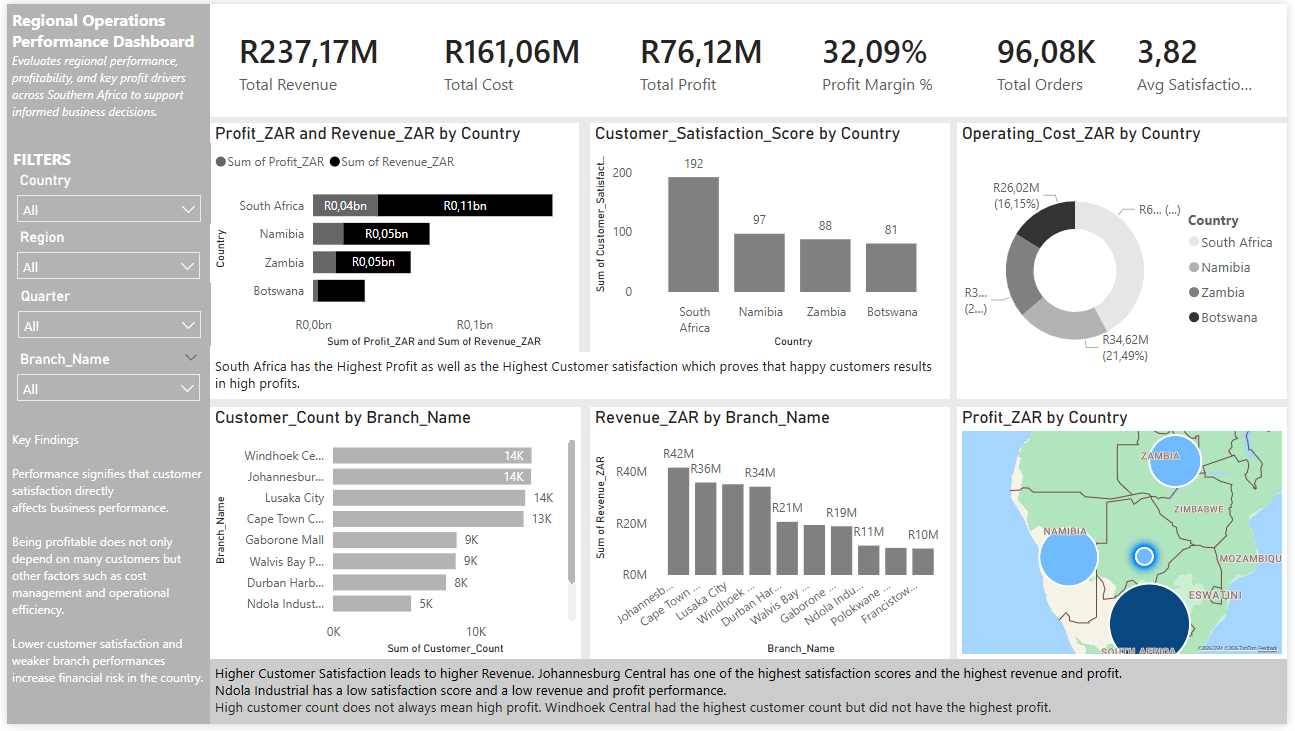

This screenshot's page, from the dashboard's own definition file:
{"tool":"powerbi","page":{"name":"Page 1","canvas":[1280,720],"ordinal":0},"visuals":[{"type":"textbox","box":[0,0,203.3,719.8],"z":0},{"type":"cardVisual","fields":{"Data":["Table1.Total Cost"]},"box":[407.9,0,196,112.6],"z":1000},{"type":"cardVisual","fields":{"Data":["Table1.Total Orders"]},"box":[960.9,0,159.4,112.8],"z":2000},{"type":"cardVisual","fields":{"Data":["Table1.Total Profit"]},"box":[603.6,0,182.7,112.8],"z":3000},{"type":"cardVisual","fields":{"Data":["Table1.Total Revenue"]},"box":[203.3,0,205.1,112.8],"z":4000},{"type":"cardVisual","fields":{"Data":["Table1.Profit Margin %"]},"box":[786.3,0,202.4,112.8],"z":5000},{"type":"cardVisual","fields":{"Data":["original Copy.Avg Satisfaction Score"]},"box":[1101.5,0,178.2,112.8],"z":6000},{"type":"barChart","title":" Profit_ZAR and Revenue_ZAR by Country","fields":{"Y":["Sum(Table1.Profit_ZAR)","Sum(Table1.Revenue_ZAR)"],"Category":["Table1.Country"]},"box":[203.1,118.8,368.9,229.7],"z":7000},{"type":"slicer","fields":{"Values":["Table1.Region"]},"box":[0,219.9,202.7,59.5],"z":8000},{"type":"columnChart","title":" Customer_Satisfaction_Score by Country","fields":{"Y":["Sum(Table1.Customer_Satisfaction_Score)"],"Category":["Table1.Country"]},"box":[582.6,118.8,360.9,229.7],"z":9000},{"type":"textbox","box":[203.1,348.5,740.4,47],"z":10000},{"type":"slicer","fields":{"Values":["Table1.Quarter"]},"box":[0.9,279.5,202.7,62.1],"z":11000},{"type":"slicer","fields":{"Values":["Table1.Branch_Name"]},"box":[0,341.6,202.7,62.1],"z":12000},{"type":"barChart","title":"Customer_Count by Branch_Name","fields":{"Category":["Table1.Branch_Name"],"Y":["Sum(Table1.Customer_Count)"]},"box":[203.1,403.4,370.6,251.8],"z":13000},{"type":"textbox","box":[203.1,655.3,1076.5,64.7],"z":14000},{"type":"columnChart","title":"Revenue_ZAR by Branch_Name","fields":{"Category":["Table1.Branch_Name"],"Y":["Sum(Table1.Revenue_ZAR)"]},"box":[582.6,402.6,360.9,252.7],"z":15000},{"type":"donutChart","title":" Operating_Cost_ZAR by Country","fields":{"Y":["Sum(Table1.Operating_Cost_ZAR)"],"Category":["Table1.Country"]},"box":[949.7,118.8,329.9,276.7],"z":16000},{"type":"textbox","box":[0,403.7,202.7,316.5],"z":17000},{"type":"textbox","box":[0.9,138.9,202.7,31.9],"z":19000},{"type":"slicer","fields":{"Values":["Table1.Country"]},"box":[0,163,203.6,56.9],"z":20000},{"type":"azureMap","title":"Profit_ZAR by Country","fields":{"Category":["Table1.Country"],"Size":["Sum(Table1.Profit_ZAR)"]},"box":[950,403,330,252],"z":20001}]}

Visuals, with their boxes in screenshot pixels (x1, y1, x2, y2), scaled from the page's 1280x720 canvas onto the 1295x731 screenshot:
textbox: x1=0, y1=0, x2=206, y2=730
cardVisual - Table1.Total Cost: x1=413, y1=0, x2=611, y2=114
cardVisual - Table1.Total Orders: x1=972, y1=0, x2=1133, y2=115
cardVisual - Table1.Total Profit: x1=611, y1=0, x2=796, y2=115
cardVisual - Table1.Total Revenue: x1=206, y1=0, x2=413, y2=115
cardVisual - Table1.Profit Margin %: x1=796, y1=0, x2=1000, y2=115
cardVisual - original Copy.Avg Satisfaction Score: x1=1114, y1=0, x2=1294, y2=115
" Profit_ZAR and Revenue_ZAR by Country" barChart: x1=205, y1=121, x2=579, y2=354
slicer - Table1.Region: x1=0, y1=223, x2=205, y2=284
" Customer_Satisfaction_Score by Country" columnChart: x1=589, y1=121, x2=955, y2=354
textbox: x1=205, y1=354, x2=955, y2=402
slicer - Table1.Quarter: x1=1, y1=284, x2=206, y2=347
slicer - Table1.Branch_Name: x1=0, y1=347, x2=205, y2=410
"Customer_Count by Branch_Name" barChart: x1=205, y1=410, x2=580, y2=665
textbox: x1=205, y1=665, x2=1294, y2=730
"Revenue_ZAR by Branch_Name" columnChart: x1=589, y1=409, x2=955, y2=665
" Operating_Cost_ZAR by Country" donutChart: x1=961, y1=121, x2=1294, y2=402
textbox: x1=0, y1=410, x2=205, y2=730
textbox: x1=1, y1=141, x2=206, y2=173
slicer - Table1.Country: x1=0, y1=165, x2=206, y2=223
"Profit_ZAR by Country" azureMap: x1=961, y1=409, x2=1294, y2=665
